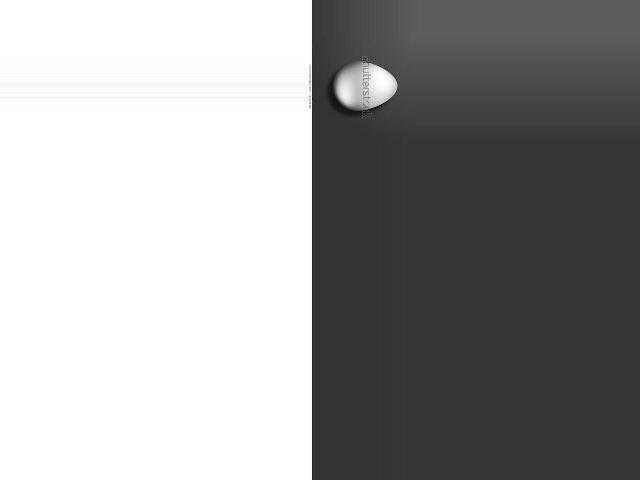egg: (333, 61, 398, 111)
